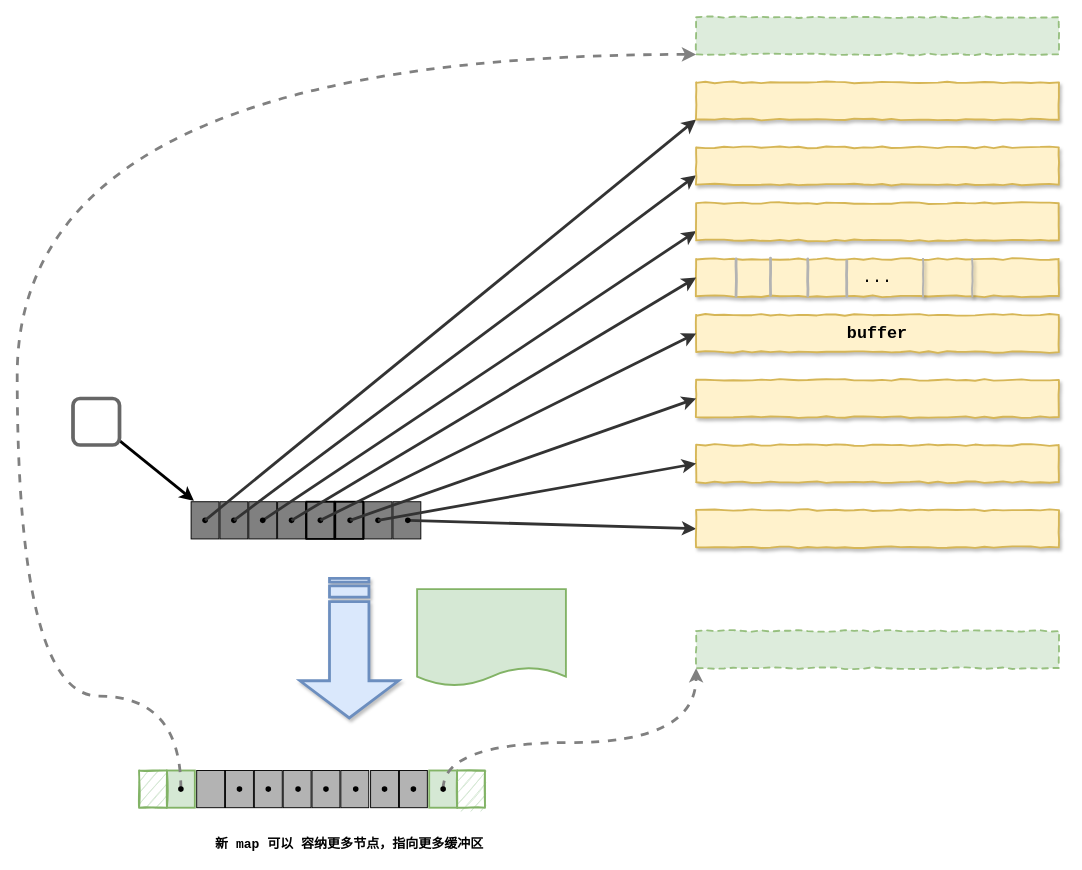
Some shapes in this 1082 by 870 pixel diagram are drawn without their labels. The centre of each missing label's shape, as x and y in pixels:
"map" belongs at (x=96, y=421).
"当 map使用率满载，便需要寻找想 新的区块 _M_allocate_map" belongs at (x=491, y=637).
